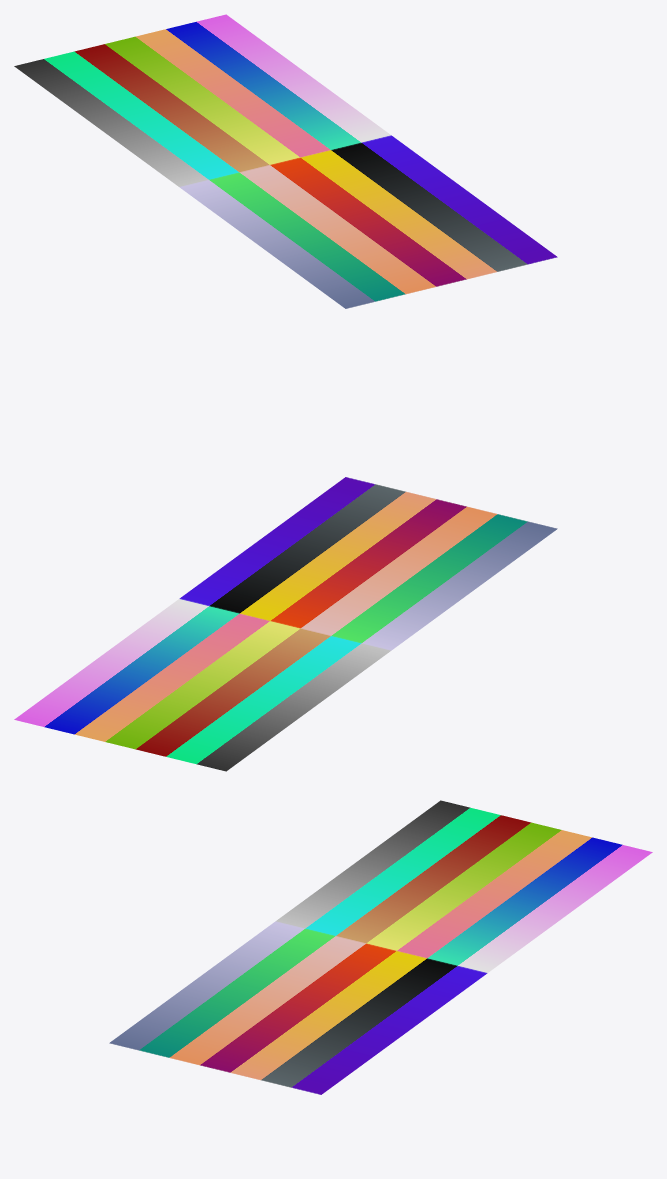
The model's file is Drapeau.fbx.
3 views of the same model, one above another, from view 1: azimuth 30°, elevation 25°; view 2: azimuth 150°, elevation 25°; view 3: azimuth 330°, elevation 25° (orthographic).
Parts seen in each view (by area): view 1: Plane.001; view 2: Plane.001; view 3: Plane.001.
Part boxes in pixels (left/top/right/bottom): Plane.001: left=14, top=14, right=557, bottom=308; Plane.001: left=14, top=477, right=557, bottom=771; Plane.001: left=109, top=800, right=652, bottom=1094.
Size of the model in its own units: 276 by 0.000198 by 959.
